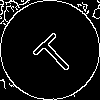T: (25, 25, 79, 80)
